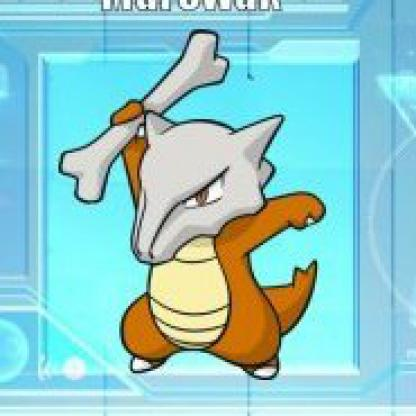Marowak: (60, 34, 323, 386)
